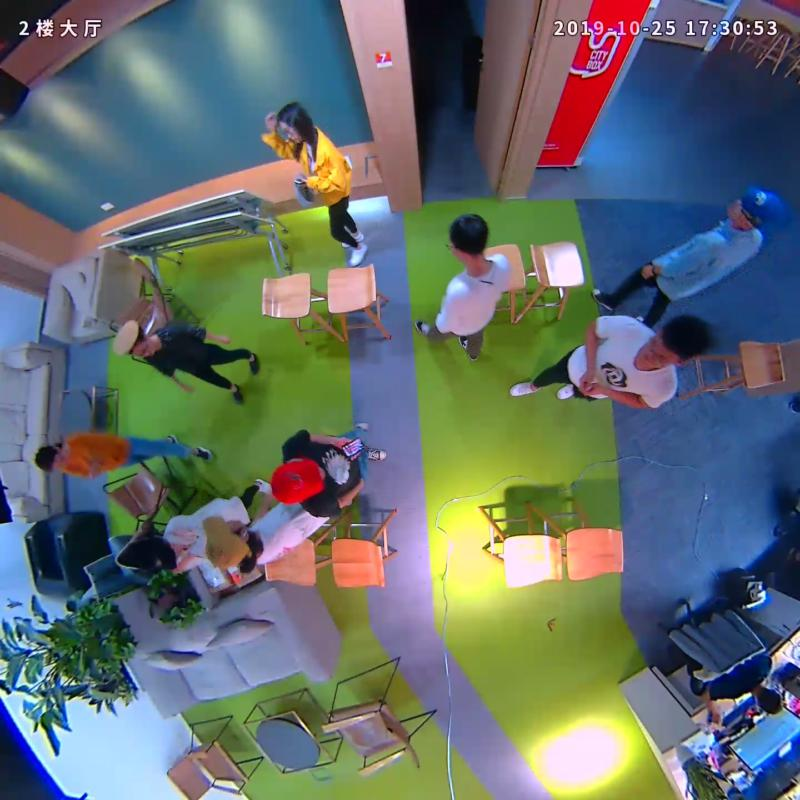head: (639, 315, 710, 368), (201, 514, 251, 572), (271, 458, 327, 506), (726, 186, 782, 230), (449, 212, 490, 263), (111, 320, 157, 357), (137, 538, 184, 572), (275, 101, 310, 144), (33, 443, 72, 475)
